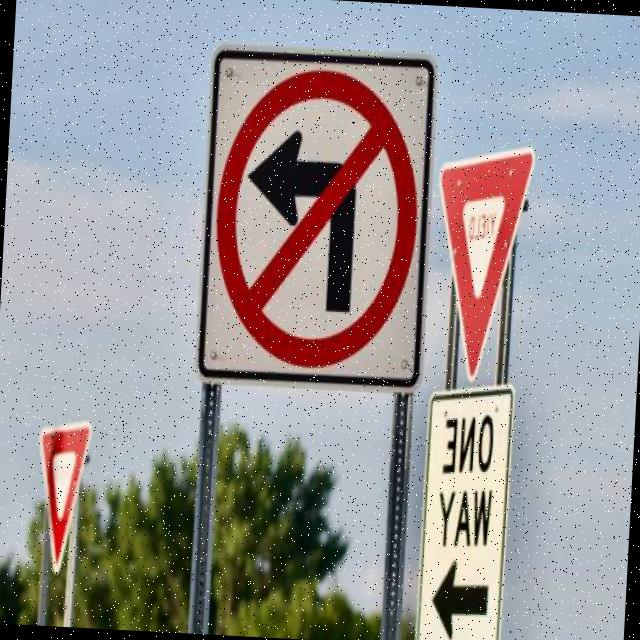do_not_turn_right: (211, 70, 423, 372)
